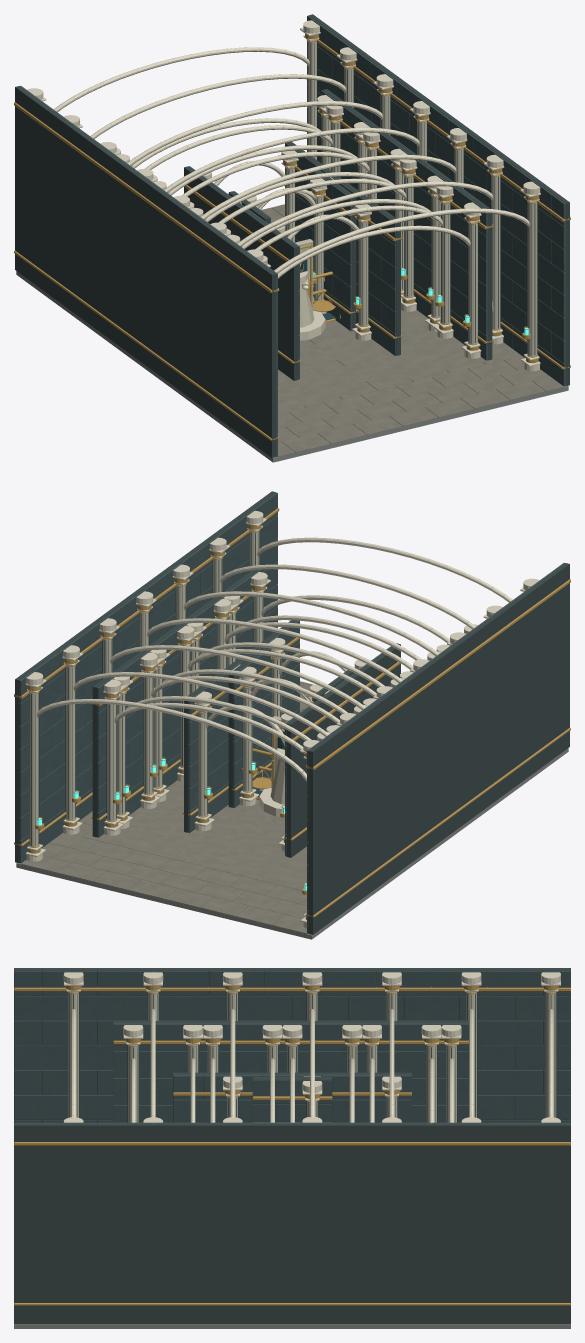
File: balance-temple-v06.glb
3 views of the same model, one above another, from view 1: azimuth 30°, elevation 25°; view 2: azimuth 150°, elevation 25°; view 3: azimuth 270°, elevation 25° (orthographic). The views are drawn at different scales.
Visible parts, largest first — view 1: hall_lever_Balance wall backing, hall_lever_Balance wall ashlar, hall_lever_Balance paving limestone, hall_lever_Carved limestone, hall_order_Balance wall ashlar, hall_order_Carved limestone, hall_twin_Carved limestone, hall_entry_Balance wall backing, hall_lever_Ivory limestone, hall_entry_Balance wall ashlar, hall_lever_Aged brass, hall_order_Balance paving limestone (+20 smaller); view 2: hall_lever_Balance wall backing, hall_lever_Balance wall ashlar, hall_lever_Balance paving limestone, hall_lever_Carved limestone, hall_order_Carved limestone, hall_order_Balance wall ashlar, hall_entry_Balance wall backing, hall_twin_Carved limestone, hall_entry_Balance wall ashlar, hall_lever_Ivory limestone, hall_lever_Aged brass, hall_order_Balance paving limestone (+18 smaller); view 3: hall_lever_Balance wall backing, hall_lever_Balance wall ashlar, hall_order_Balance wall ashlar, hall_lever_Carved limestone, hall_lever_Aged brass, hall_twin_Balance wall ashlar, hall_entry_Balance wall ashlar, hall_lever_Ivory limestone, hall_order_Carved limestone, Paving foundation hall_lever, hall_twin_Carved limestone, hall_corridor_Balance wall ashlar (+11 smaller).
Boxes of the visible parts, x1,y1,x2,y2 form: hall_lever_Balance wall backing: (15, 14, 569, 457); hall_lever_Balance wall ashlar: (20, 15, 565, 456); hall_lever_Balance paving limestone: (261, 204, 563, 456); hall_lever_Carved limestone: (27, 20, 540, 371); hall_order_Balance wall ashlar: (321, 90, 487, 360); hall_order_Carved limestone: (116, 95, 481, 358); hall_twin_Carved limestone: (116, 105, 453, 338); hall_entry_Balance wall backing: (184, 142, 400, 380); hall_lever_Ivory limestone: (307, 40, 537, 356); hall_entry_Balance wall ashlar: (188, 143, 396, 379); hall_lever_Aged brass: (14, 34, 570, 440); hall_order_Balance paving limestone: (278, 312, 482, 411); hall_lever_Balance wall backing: (15, 491, 569, 934); hall_lever_Balance wall ashlar: (19, 492, 564, 933); hall_lever_Balance paving limestone: (21, 681, 313, 933); hall_lever_Carved limestone: (25, 510, 539, 928); hall_order_Carved limestone: (103, 572, 478, 835); hall_order_Balance wall ashlar: (97, 569, 263, 837); hall_entry_Balance wall backing: (184, 620, 400, 857); hall_twin_Carved limestone: (113, 596, 449, 828); hall_entry_Balance wall ashlar: (188, 620, 391, 856); hall_lever_Ivory limestone: (29, 530, 259, 846); hall_lever_Aged brass: (14, 508, 570, 919); hall_order_Balance paving limestone: (118, 777, 306, 887); hall_lever_Balance wall backing: (14, 968, 570, 1323); hall_lever_Balance wall ashlar: (14, 970, 570, 1123); hall_order_Balance wall ashlar: (113, 1023, 468, 1122); hall_lever_Carved limestone: (63, 971, 560, 1123); hall_lever_Aged brass: (14, 986, 570, 1305); hall_twin_Balance wall ashlar: (134, 1023, 451, 1122); hall_entry_Balance wall ashlar: (173, 1075, 411, 1123); hall_lever_Ivory limestone: (68, 992, 556, 1117); hall_order_Carved limestone: (123, 1025, 461, 1122); Paving foundation hall_lever: (14, 1324, 570, 1328); hall_twin_Carved limestone: (183, 1025, 441, 1123); hall_corridor_Balance wall ashlar: (253, 1079, 331, 1122).
Bounding box in the file's own units: 18.91 × 11.3 × 28.
Materials: 13 (2 with a texture image).
